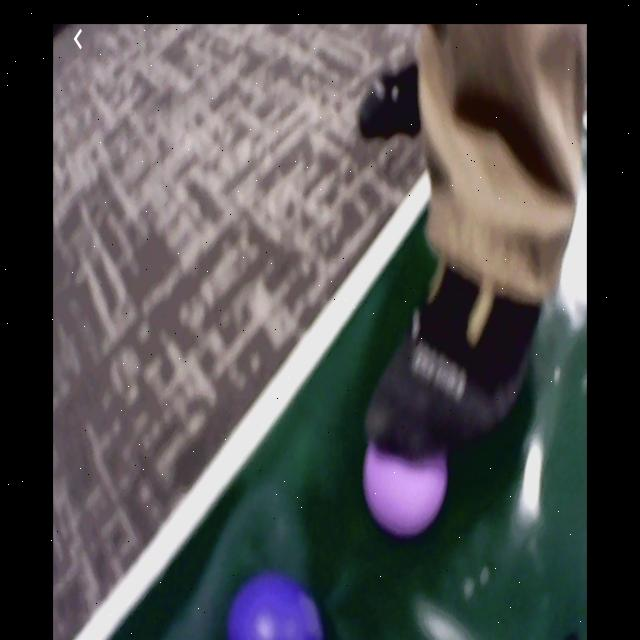ball: (364, 437, 448, 534), (228, 574, 325, 640)
